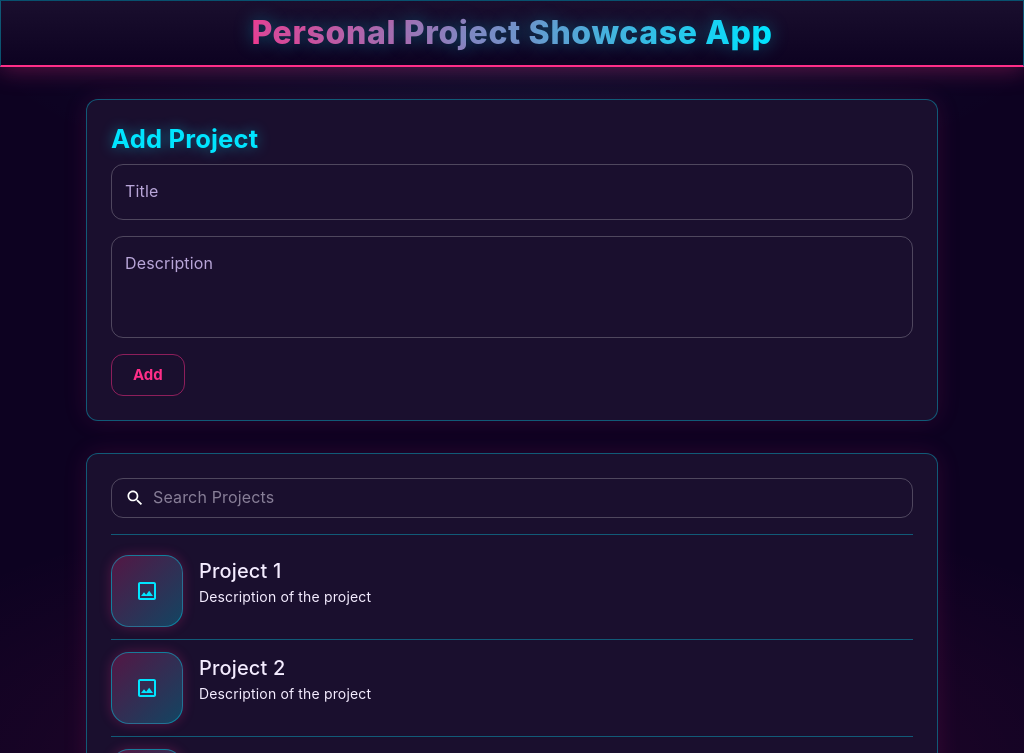
it: App integration › adds a new project through the form and shows it in the list
In the field labelled "Title": (512, 192) x1=111 y1=164 x2=913 y2=220, type "Weather Dashboard"
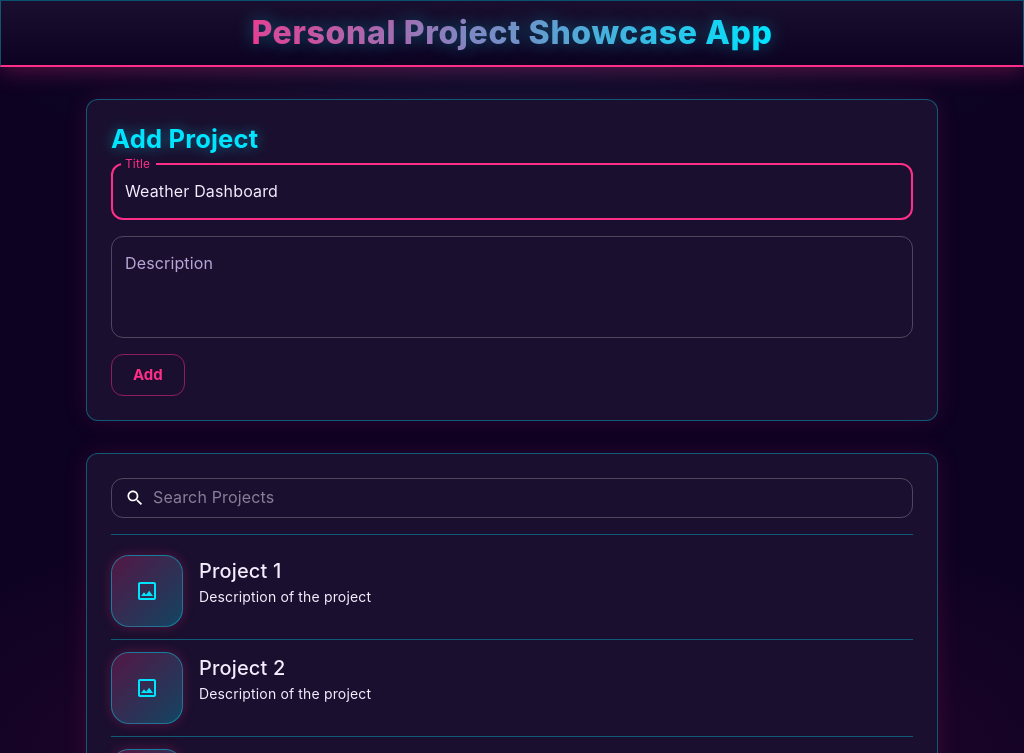
In the text box labelled "Description": (512, 287) x1=125 y1=252 x2=899 y2=321, type "Live forecasts with charts"
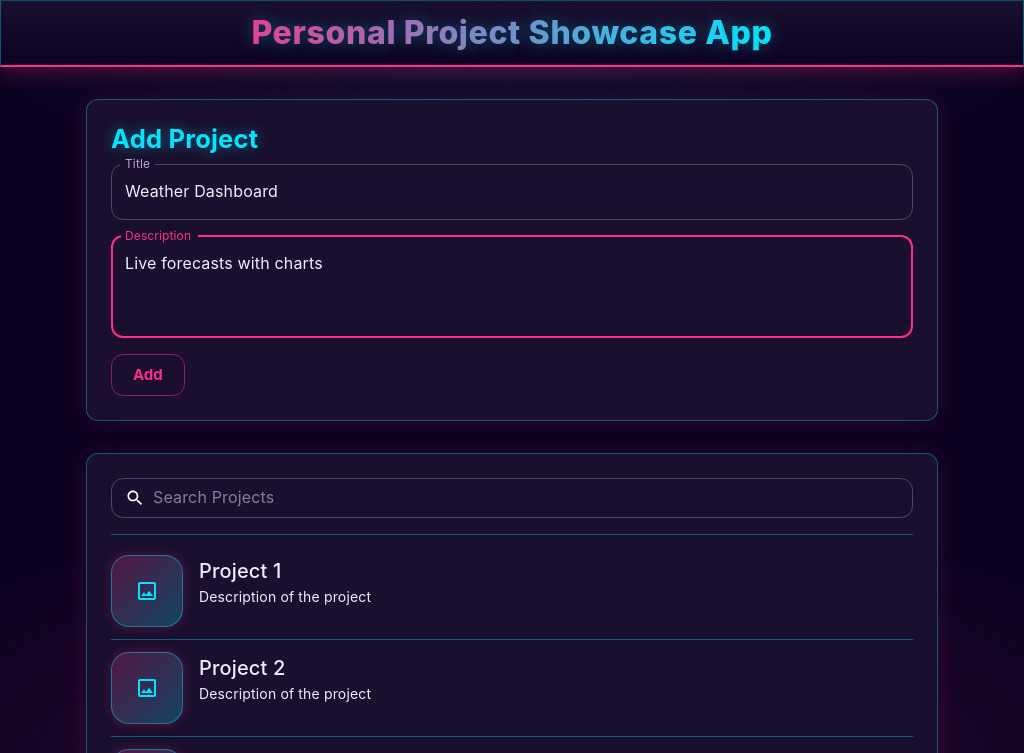
Click the button "Add": (148, 375) x1=111 y1=354 x2=185 y2=396
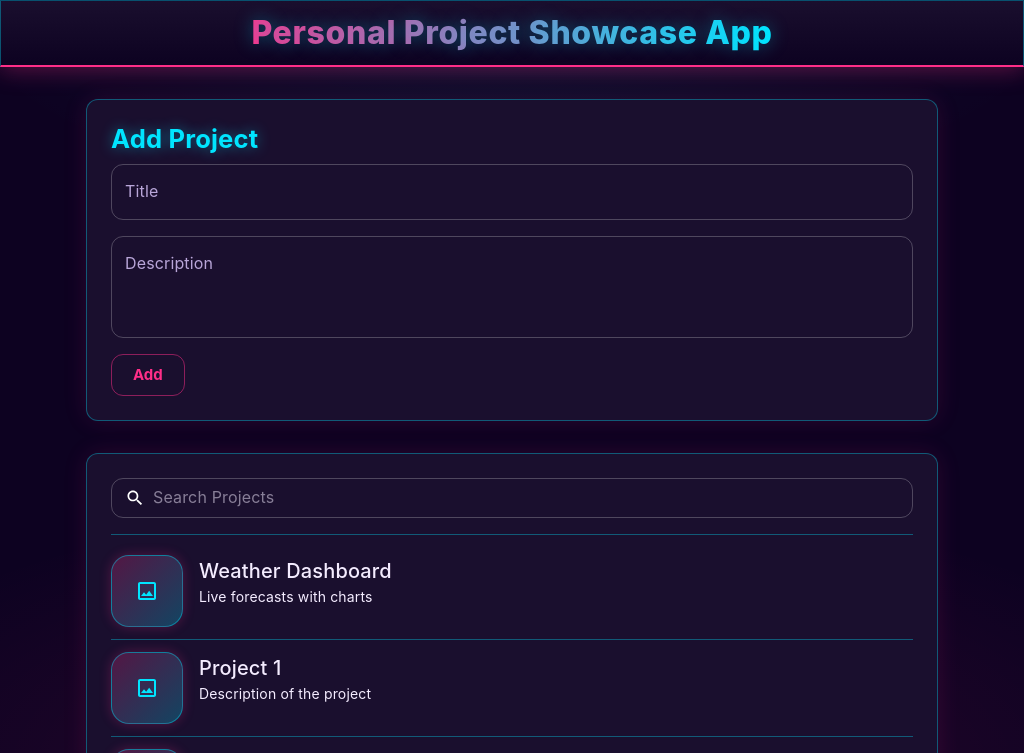
Expected: the heading "Weather Dashboard" is shown, x1=199 y1=555 x2=392 y2=587
Expected: the text "Live forecasts with charts" is shown, x1=199 y1=587 x2=392 y2=607
